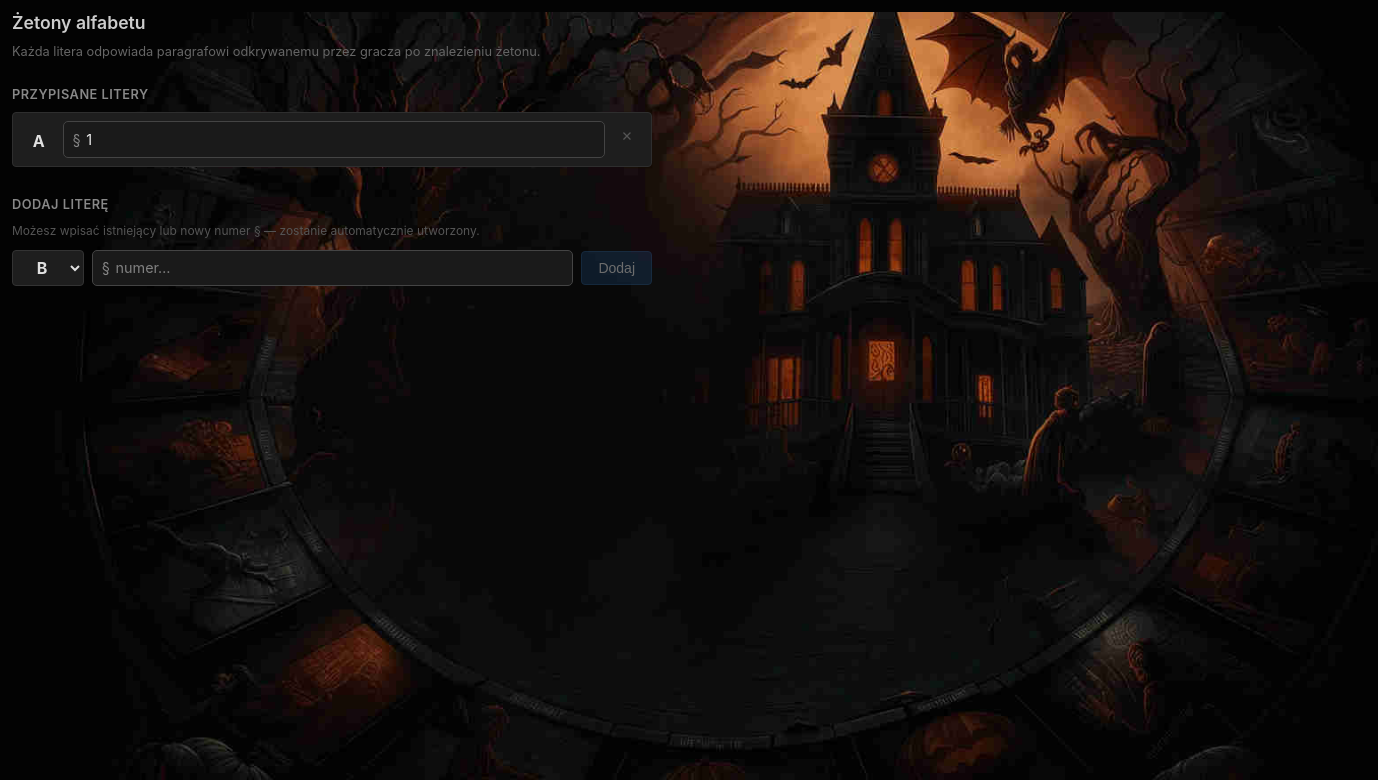
Scenario: LettersEditor › cancels deletion when clicking No
Click the button titled "Usuń przypisanie".
click(627, 137)  # box 615,126 -> 639,148
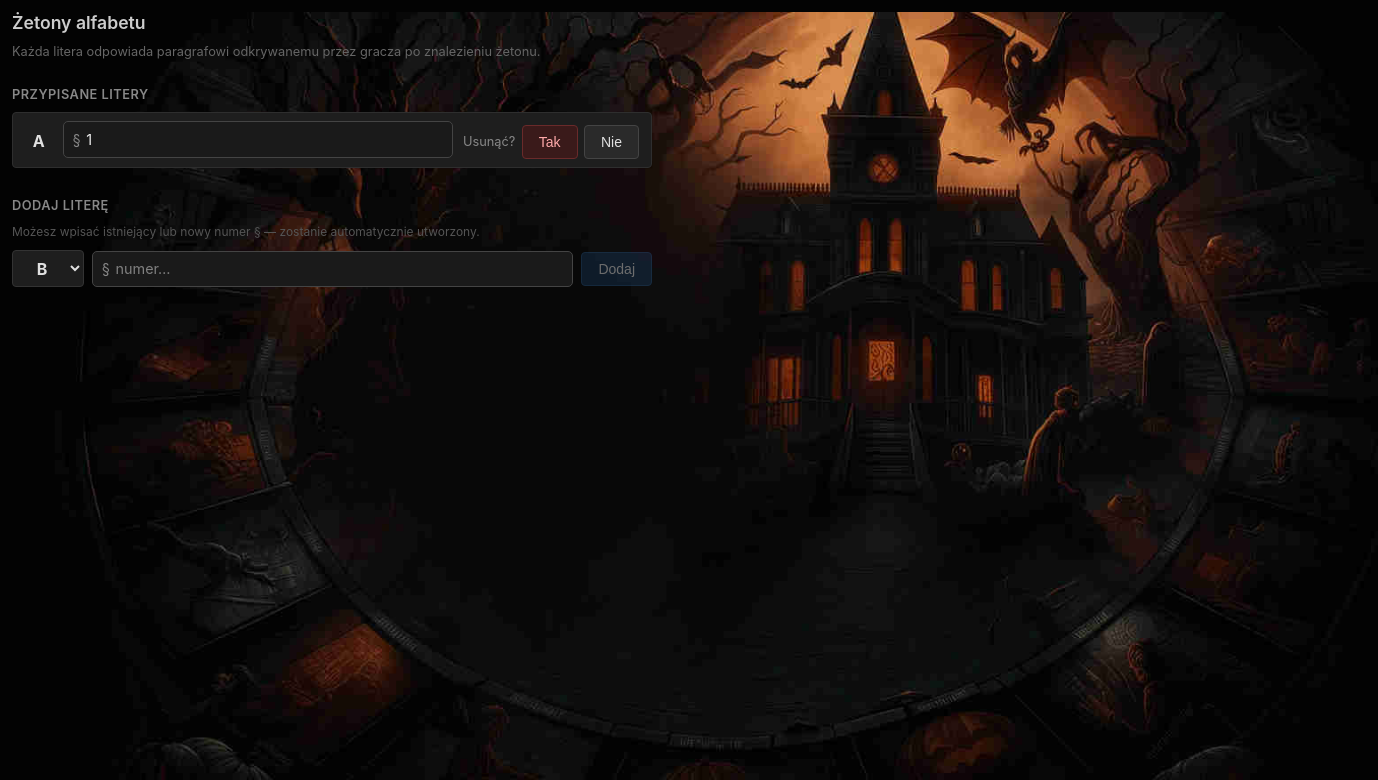
Click the button "Nie".
click(612, 142)  # box 584,124 -> 639,158
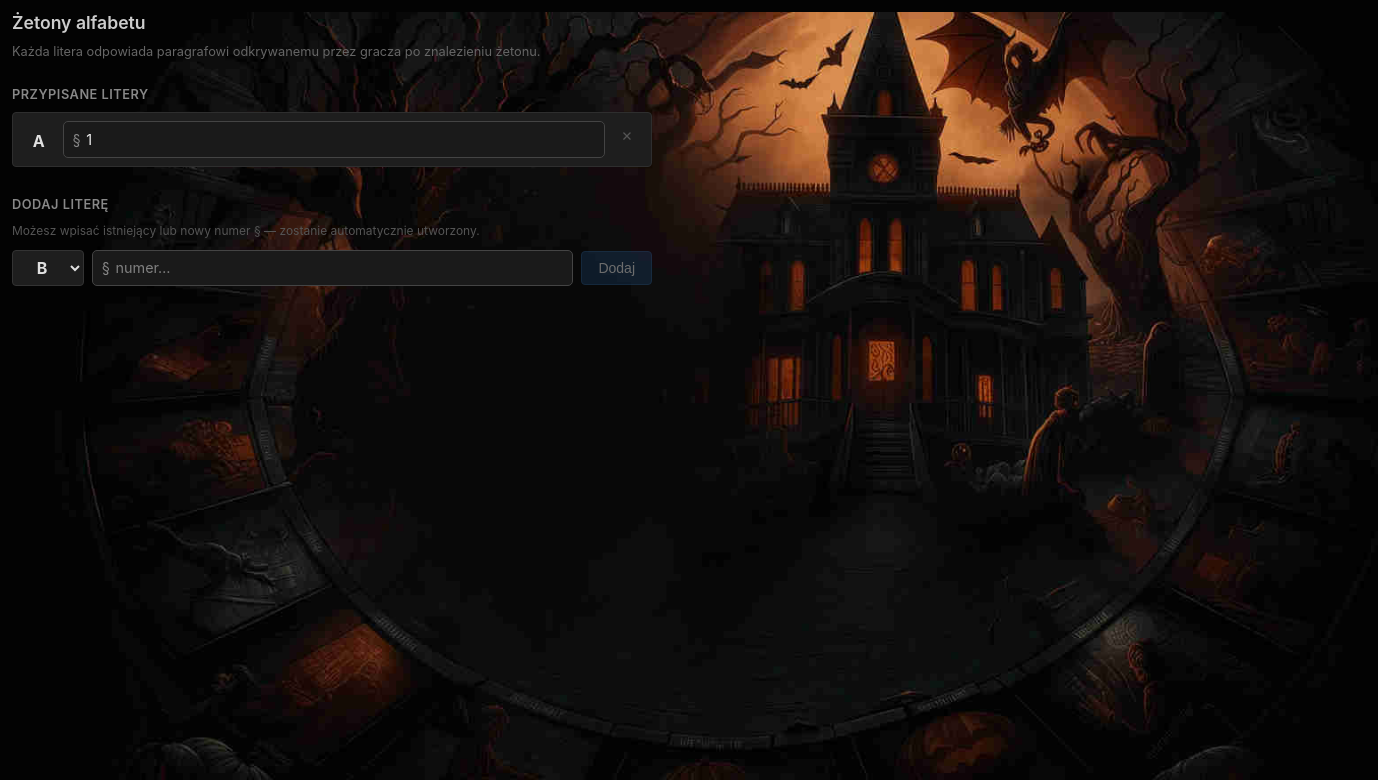
Expected: the text "Usunąć?" is gone
